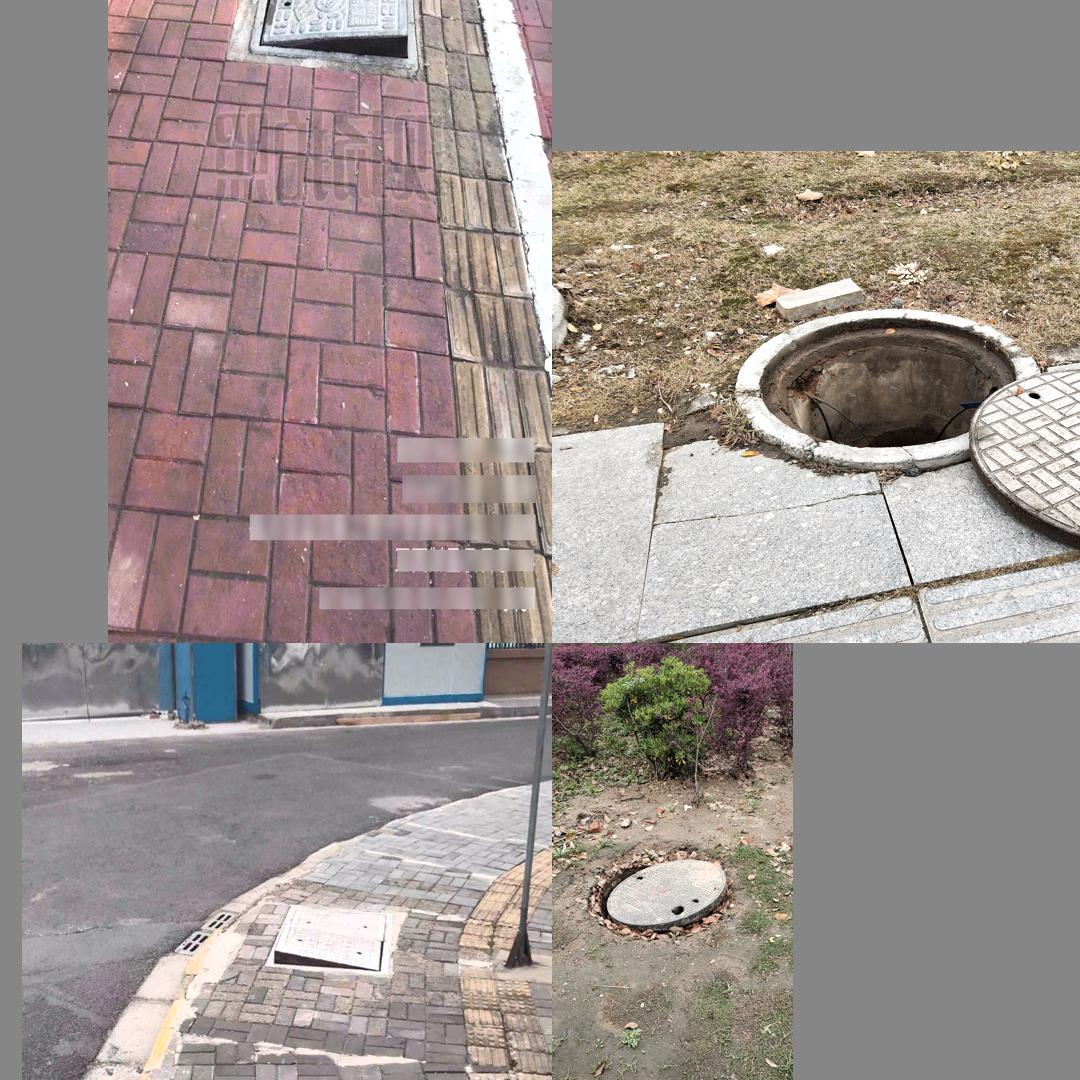uncovered: (734, 308, 1080, 561), (249, 0, 419, 74), (590, 858, 729, 933), (261, 905, 396, 977)
